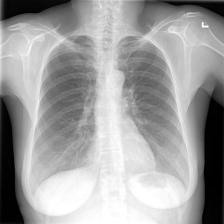normal: (25, 28, 193, 192)
